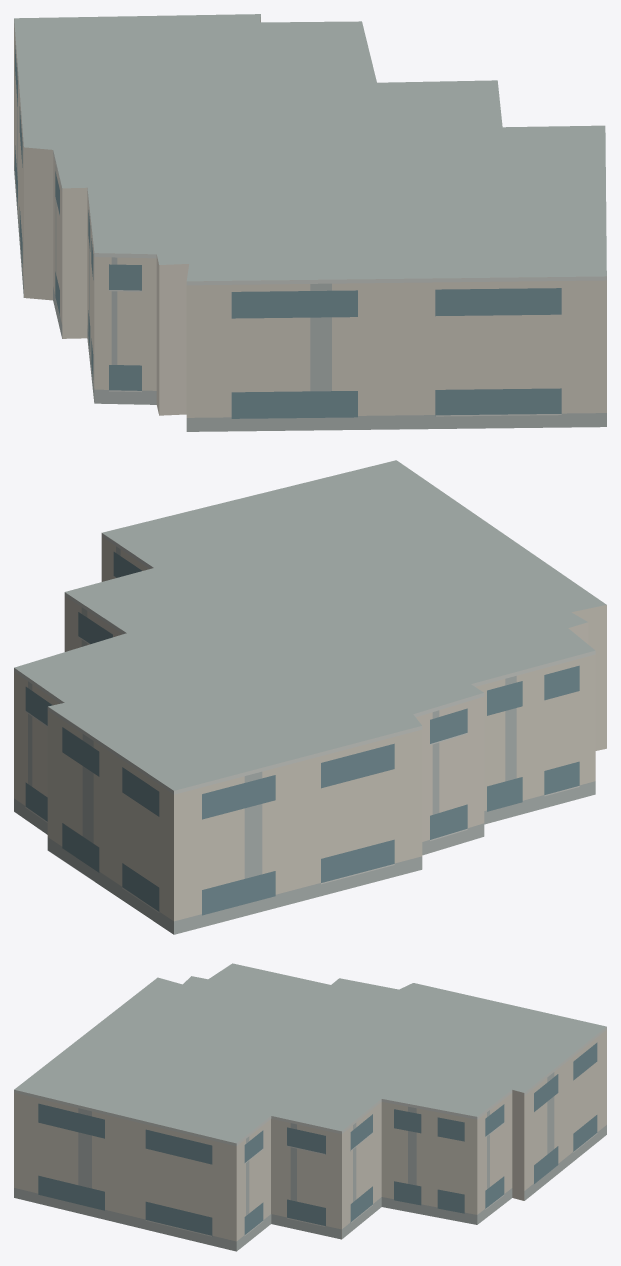
File: survey-upis-32743800.glb
3 renders of one model, top to bottom at view 1: azimuth 30°, elevation 25°; view 2: azimuth 150°, elevation 25°; view 3: azimuth 270°, elevation 25°, orthographic. The views are drawn at different scales.
Visible parts, largest first — view 1: survey-upis-32743800.tmp; view 2: survey-upis-32743800.tmp; view 3: survey-upis-32743800.tmp.
Boxes of the visible parts, x1,y1,x2,y2 form: survey-upis-32743800.tmp: (14, 14, 606, 431); survey-upis-32743800.tmp: (14, 460, 606, 934); survey-upis-32743800.tmp: (14, 963, 606, 1251).
Size of the model in its own units: 32.69 by 9.15 by 45.48.
